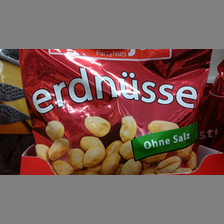nuts: (18, 49, 214, 175)
